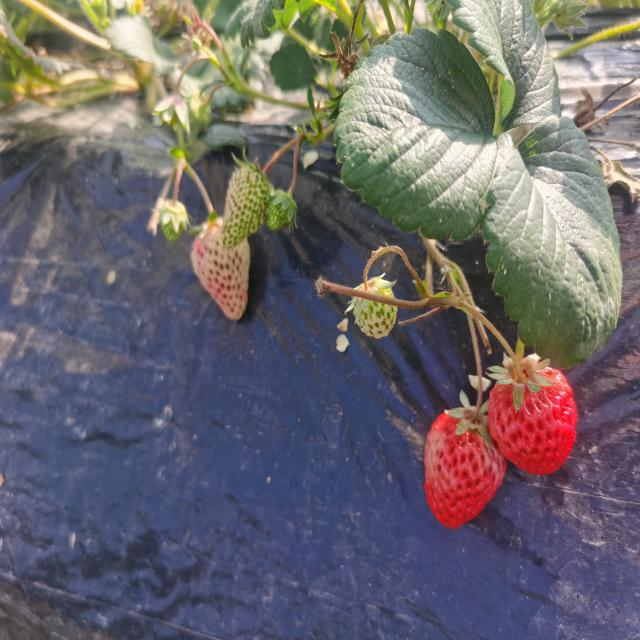stem: (500, 338, 525, 386), (469, 373, 482, 426)
strawberry: (488, 359, 577, 475), (424, 407, 507, 529)
